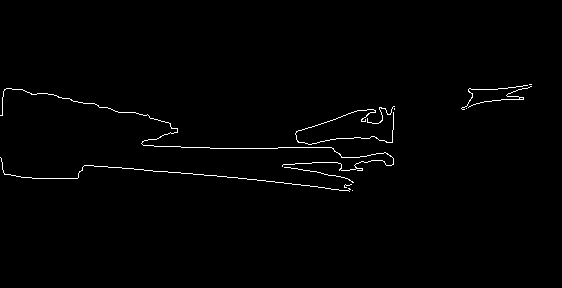fracture: (256, 111, 336, 184)
